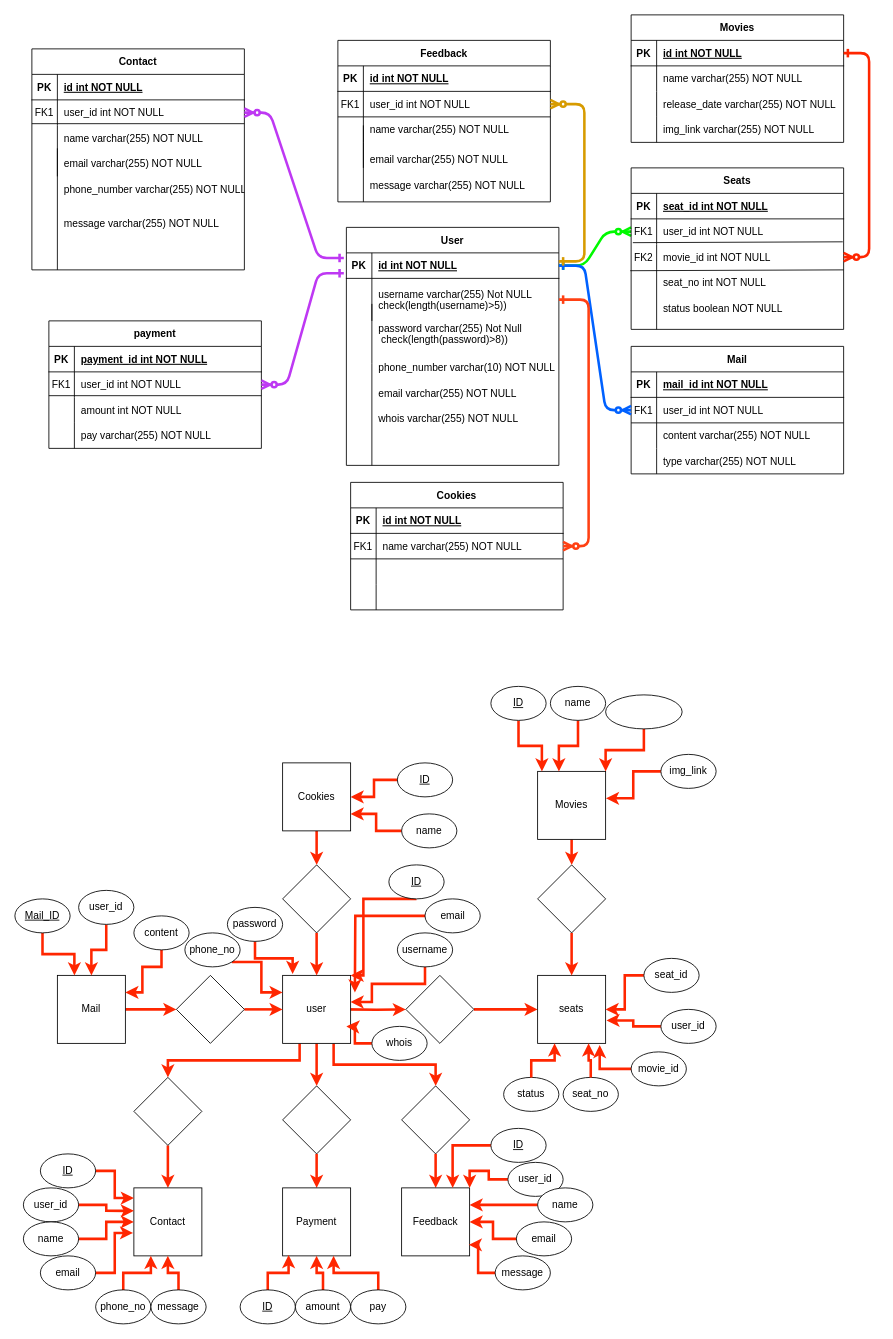
This 893x1339 diagram has some shape labels left out. Each missing label, with the centre of its shape:
"can" belongs at [167,1111].
"can book" belongs at [439,1009].
"can send" belongs at [435,1119].
"collect" belongs at [316,898].
"do" belongs at [316,1119].
"have" belongs at [571,898].
"release_date" belongs at [643,711].
"send to" belongs at [210,1009].
